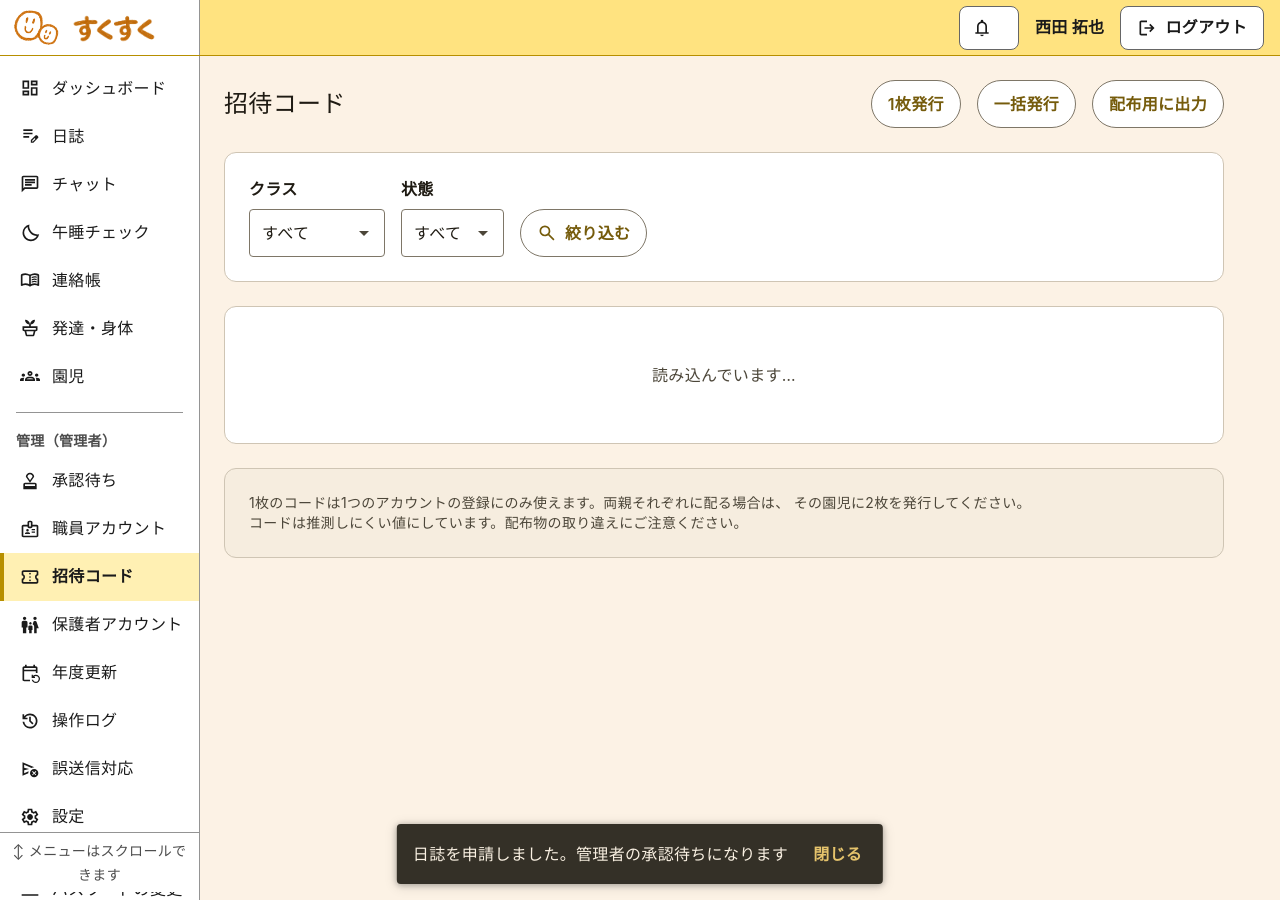
it: 配布用の出力は、1枚ごとに登録の手順を載せる
The width and height of the screenshot is (1280, 900).
What coordinates should you click on to do the following:
click the button "配布用に出力"
I would click on:
 (1158, 104)
Its box is x1=1092 y1=80 x2=1224 y2=128.
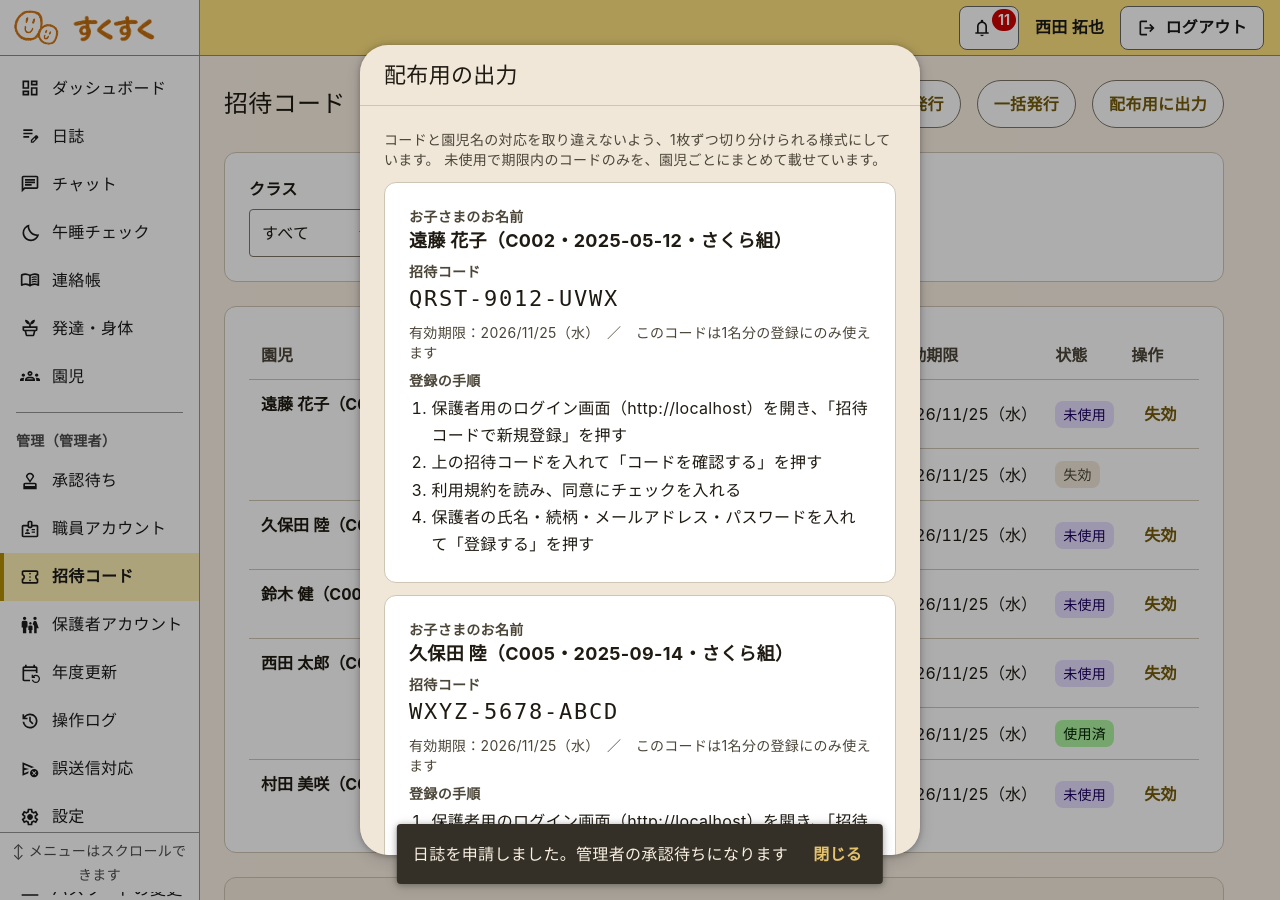
Expected: the dialog "配布用の出力" shows "招待コードで新規登録", x1=431 y1=398 x2=868 y2=445
Expected: the dialog "配布用の出力" shows "コードを確認する", x1=431 y1=452 x2=823 y2=472
Expected: the dialog "配布用の出力" shows "登録する", x1=431 y1=507 x2=856 y2=554
